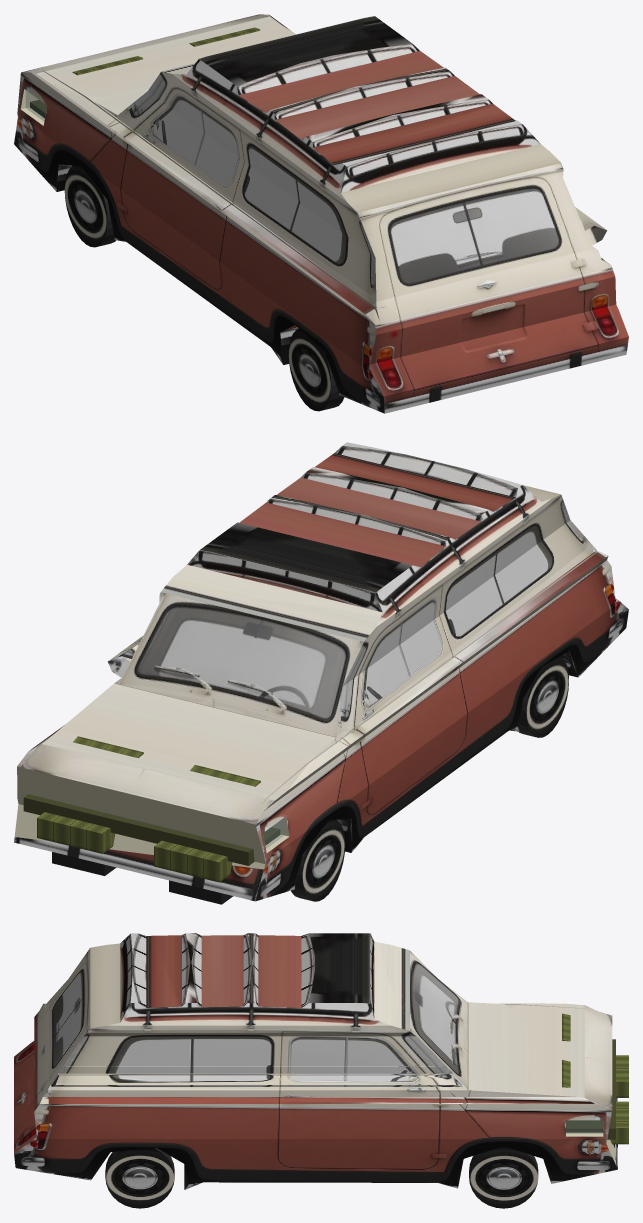
Rendered from crossover_suv.glb.
The picture shows the model from 3 angles, top to bottom: view 1: azimuth 30°, elevation 25°; view 2: azimuth 150°, elevation 25°; view 3: azimuth 270°, elevation 25°; orthographic projection. The views are drawn at different scales.
Visible parts, largest first — view 1: crossover_suv, wheel_BL, wheel_FL, crossover_suv_cabin; view 2: crossover_suv, crossover_suv_cabin, wheel_FL, wheel_BL; view 3: crossover_suv, wheel_BR, wheel_FR, crossover_suv_cabin.
Boxes of the visible parts, bbox=[...] form: crossover_suv: bbox=[14, 14, 628, 413]; wheel_BL: bbox=[288, 328, 344, 411]; wheel_FL: bbox=[64, 165, 115, 247]; crossover_suv_cabin: bbox=[26, 27, 260, 120]; crossover_suv: bbox=[14, 442, 628, 901]; crossover_suv_cabin: bbox=[23, 736, 284, 904]; wheel_FL: bbox=[291, 819, 345, 901]; wheel_BL: bbox=[518, 656, 568, 737]; crossover_suv: bbox=[14, 933, 617, 1189]; wheel_BR: bbox=[105, 1148, 174, 1208]; wheel_FR: bbox=[469, 1146, 538, 1208]; crossover_suv_cabin: bbox=[562, 1013, 628, 1147].
Size of the model in its own units: 1.83 by 1.69 by 4.78.
Materials: 11 (4 with a texture image).
